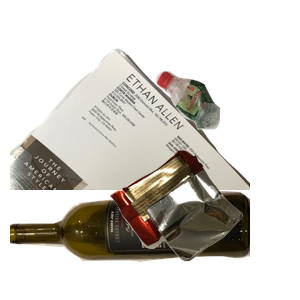glass: (10, 189, 250, 300)
paper: (10, 46, 250, 226)
plastic: (153, 68, 300, 190)
trash: (107, 148, 300, 300)
